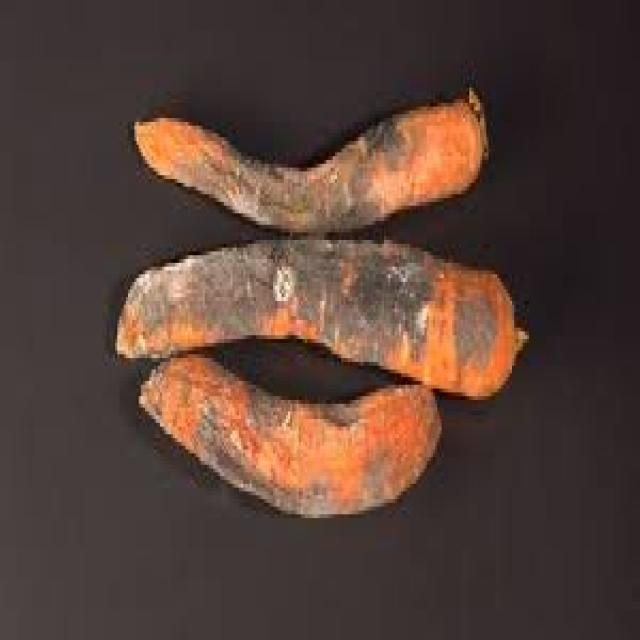Stale_Carrot: (116, 239, 525, 398), (135, 87, 489, 233), (139, 355, 441, 517)
